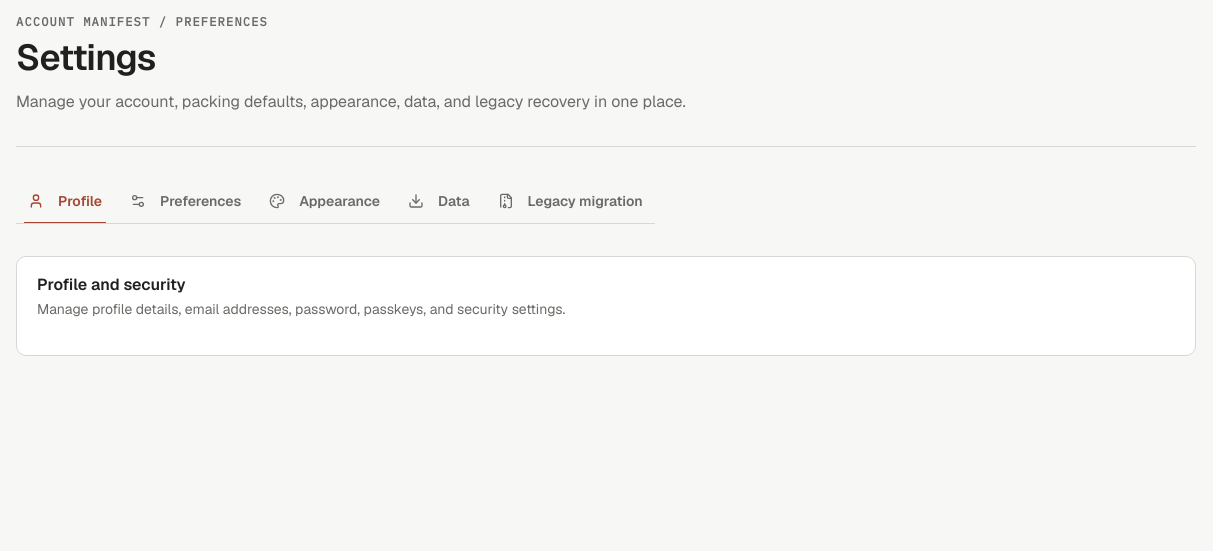
Scenario: SettingsPage › does not offer an auto-save preference that has no distinct runtime behavior
Click the tab "Preferences": (186, 201) x1=118 y1=179 x2=253 y2=223
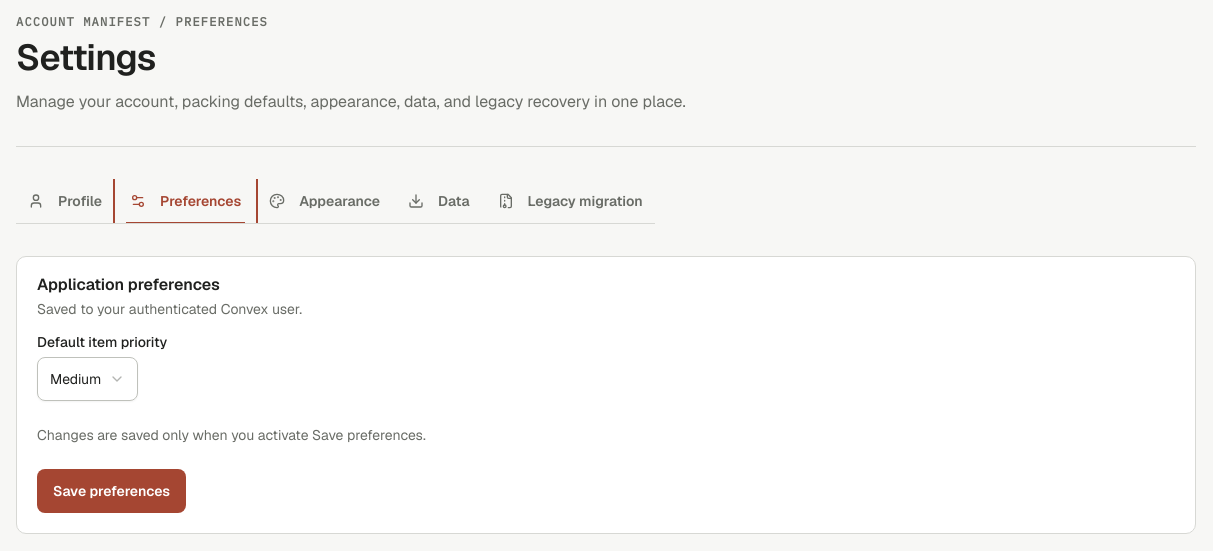
Expected: the dropdown named "Default item priority" is shown, x1=37 y1=357 x2=138 y2=401
